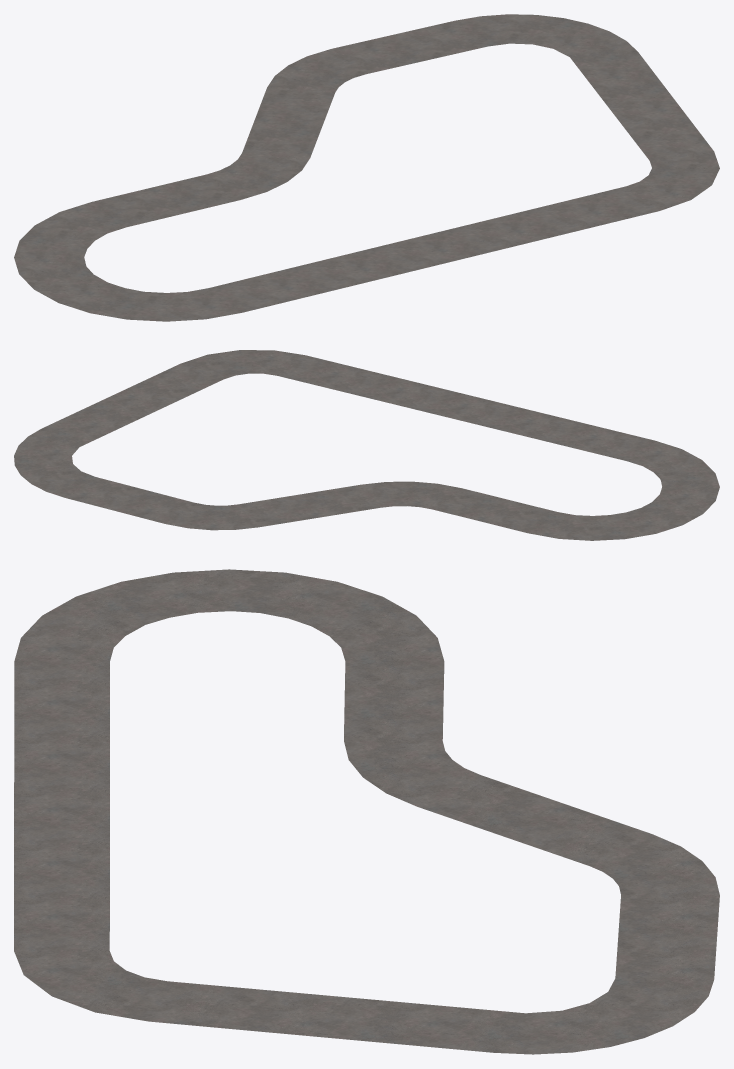
Rendered from road_concrete.dae.
3 views of the same model, one above another, from view 1: azimuth 30°, elevation 25°; view 2: azimuth 150°, elevation 25°; view 3: azimuth 270°, elevation 25° (orthographic). The views are drawn at different scales.
Visible parts, largest first — view 1: road; view 2: road; view 3: road.
Boxes of the visible parts, x1,y1,x2,y2 form: road: [14, 14, 719, 321]; road: [14, 350, 719, 540]; road: [14, 569, 719, 1054].
Size of the model in its own units: 7.21 by 4.43 by 0.000494.
1 material, 1 textured.
